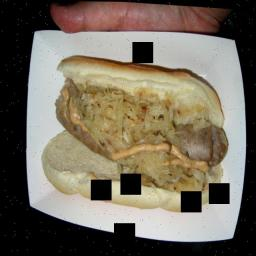hotdog: (30, 56, 242, 218)
